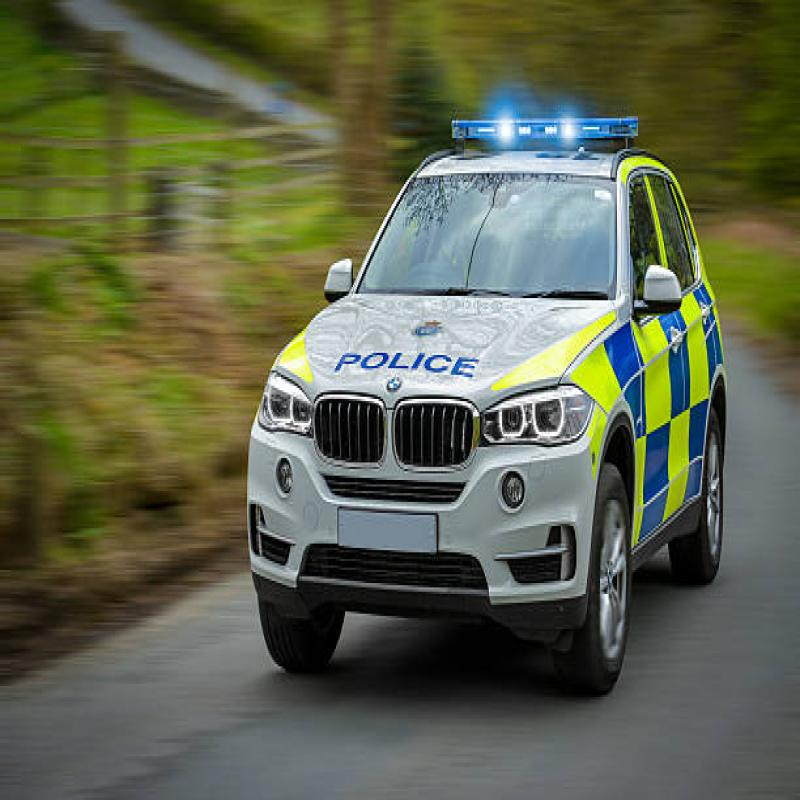AmbulanceSiren: (420, 97, 649, 158)
